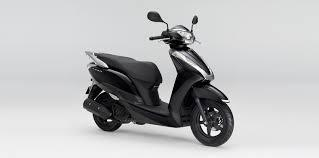motorcycle: (76, 8, 237, 148)
